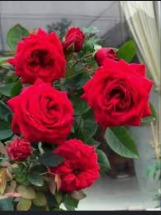RedRose: (79, 59, 157, 130), (6, 80, 75, 145), (10, 28, 68, 82)
